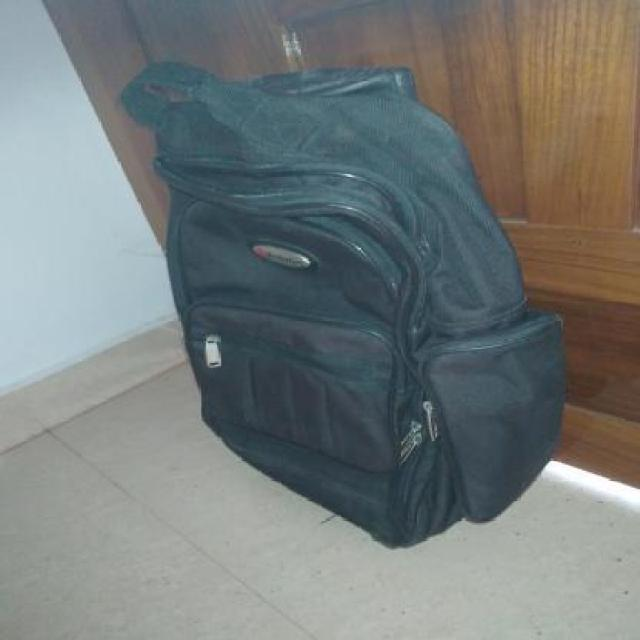backpack: (120, 58, 571, 554)
